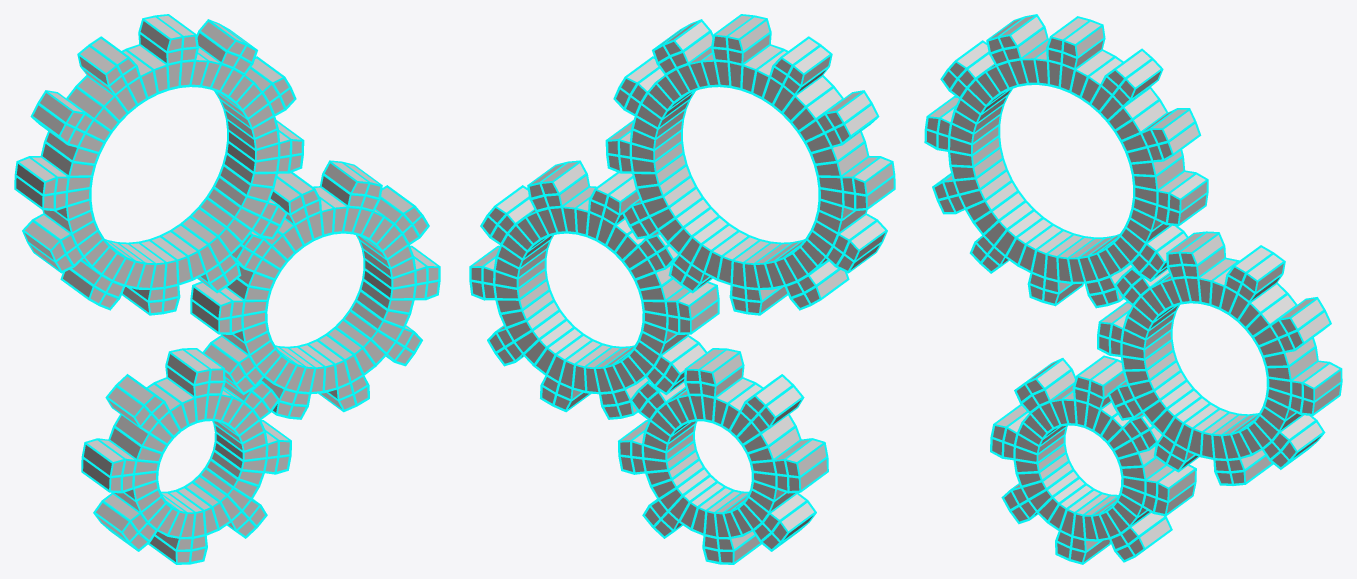
The model's file is gears.glb.
3 renders of one model, left to right at view 1: azimuth 30°, elevation 25°; view 2: azimuth 150°, elevation 25°; view 3: azimuth 330°, elevation 25°, orthographic.
Visible parts, largest first — view 1: Gear.003, Gear.002, Gear.001; view 2: Gear.003, Gear.002, Gear.001; view 3: Gear.003, Gear.002, Gear.001.
Part boxes in pixels (x1,y1,x2,y2): Gear.003: (14, 14, 304, 315); Gear.002: (190, 160, 440, 419); Gear.001: (81, 348, 291, 564); Gear.003: (605, 14, 895, 315); Gear.002: (469, 160, 719, 419); Gear.001: (618, 348, 828, 564); Gear.003: (924, 14, 1208, 308); Gear.002: (1097, 231, 1342, 485); Gear.001: (990, 355, 1196, 564).
Bounding box in the file's own units: 3.36 × 4.29 × 0.423.
